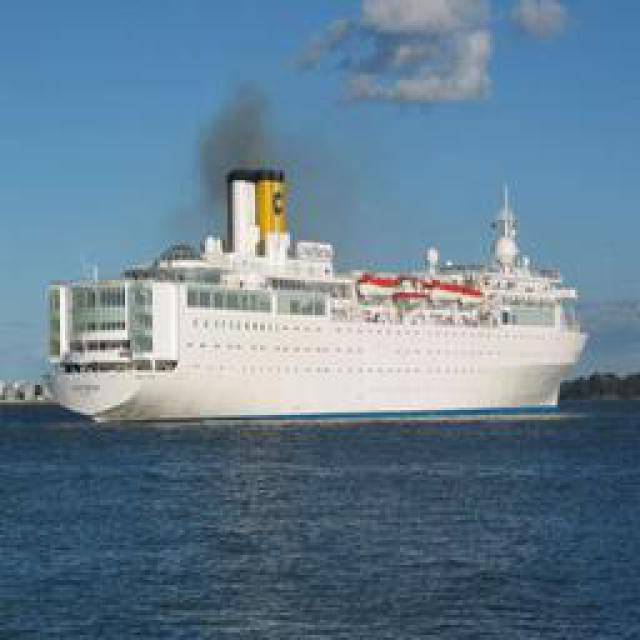Ship: (46, 164, 586, 424)
